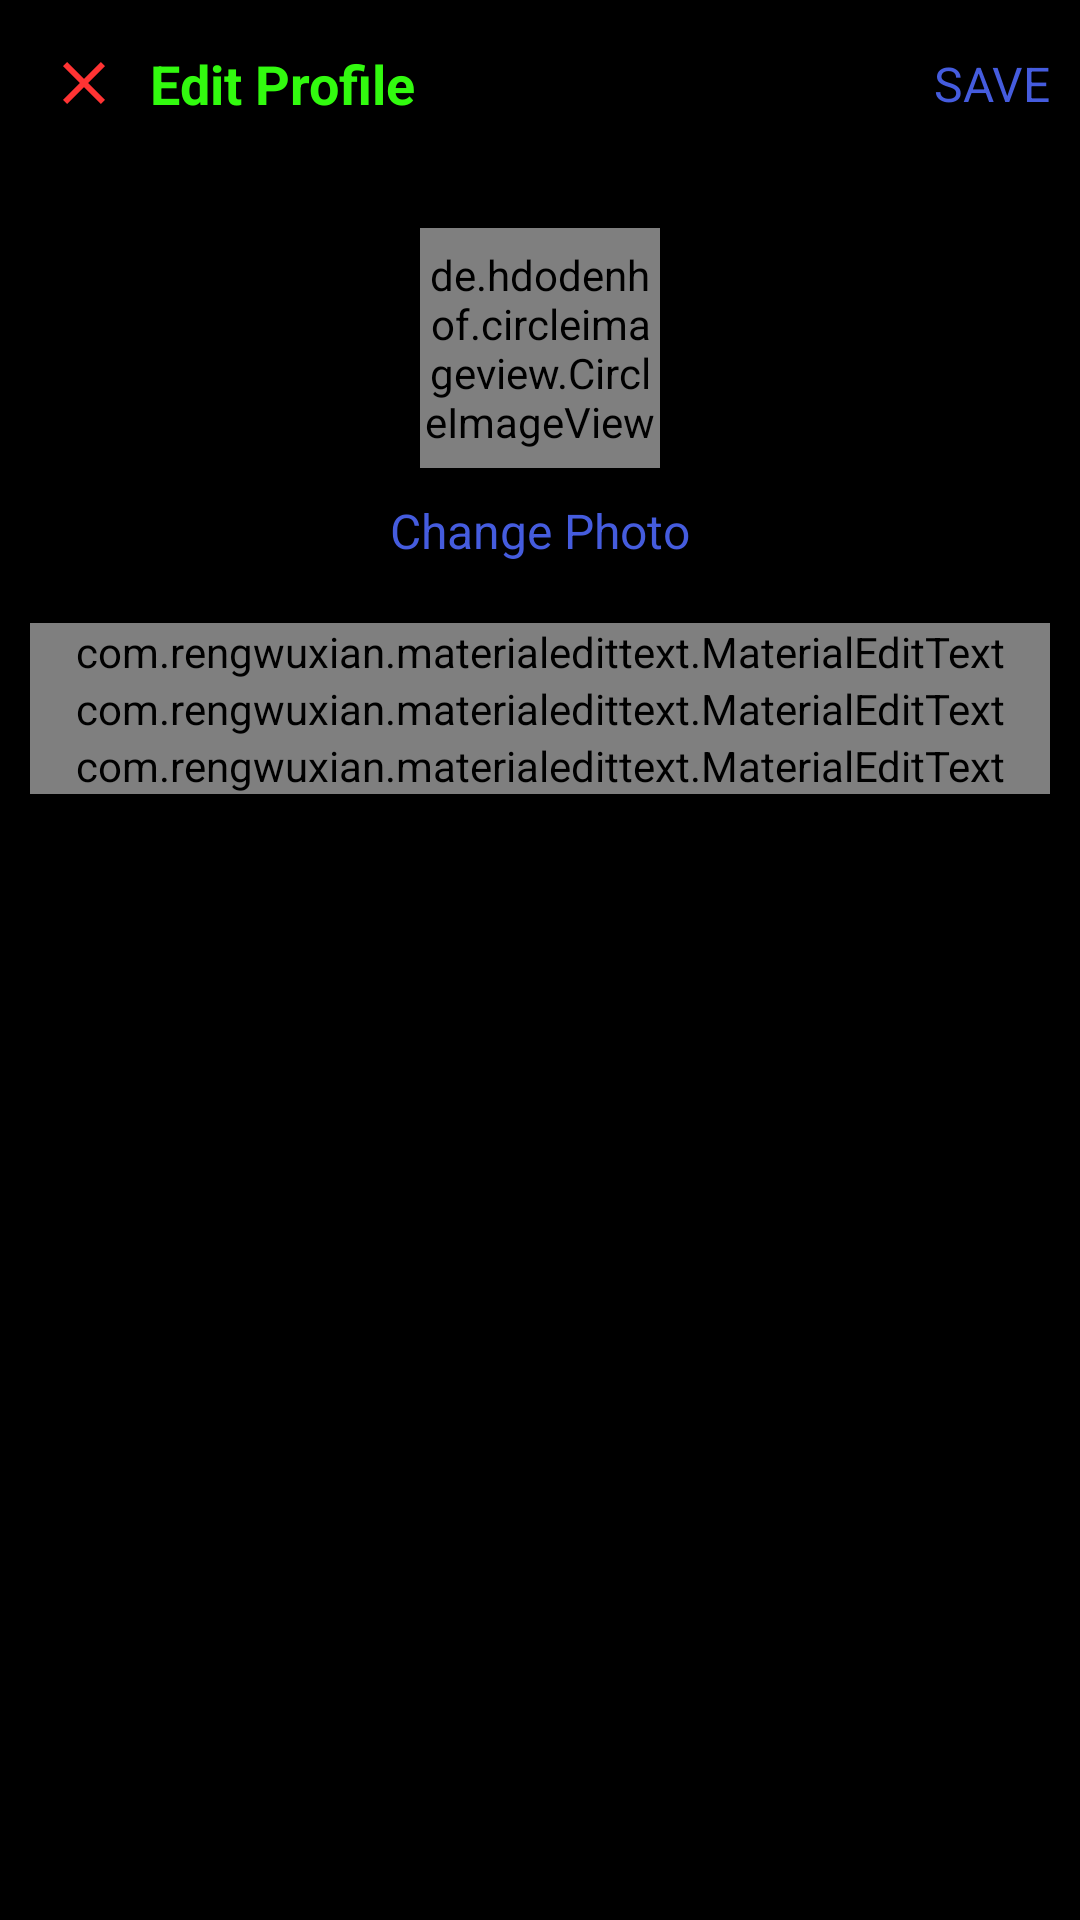

Screen size 1080 x 1920. Icon name, then its center in pixels as (x=x, y=y):
close: (x=84, y=83)
